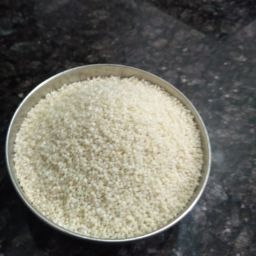Barnyard Millet(samak): (30, 82, 192, 224), (49, 73, 201, 192), (13, 102, 130, 238), (90, 130, 201, 233)
